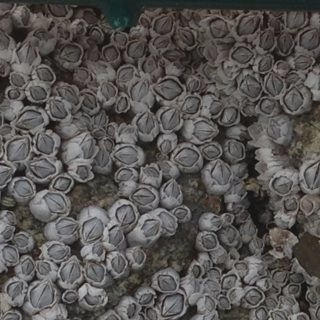Barnacle: (143, 209, 177, 237), (153, 79, 185, 103), (29, 281, 55, 308), (81, 218, 105, 243), (59, 260, 82, 285), (17, 42, 38, 69), (16, 110, 44, 130), (8, 137, 31, 161), (210, 161, 232, 186), (162, 294, 184, 319), (283, 88, 304, 114), (29, 159, 56, 179), (193, 121, 218, 142), (236, 14, 259, 36), (160, 107, 181, 131), (44, 193, 66, 215), (175, 148, 200, 167), (241, 76, 262, 98), (300, 28, 319, 52), (58, 86, 79, 107), (272, 175, 294, 195), (115, 205, 135, 227), (115, 147, 138, 166), (56, 219, 79, 238), (210, 19, 230, 40), (305, 161, 319, 191), (36, 133, 55, 155), (136, 112, 154, 135), (286, 9, 306, 29), (85, 262, 105, 282), (59, 45, 81, 63), (266, 74, 283, 97), (133, 79, 150, 102), (132, 190, 156, 206), (128, 40, 146, 61), (232, 47, 254, 64), (154, 16, 173, 35), (178, 27, 196, 47), (15, 180, 35, 198), (51, 99, 68, 120), (165, 49, 190, 63), (80, 135, 95, 158), (80, 91, 98, 110), (182, 98, 202, 115), (220, 107, 240, 124), (259, 31, 275, 52), (48, 2, 68, 18), (54, 177, 74, 193), (278, 33, 292, 55), (164, 181, 180, 200), (266, 120, 281, 140), (108, 227, 123, 247), (112, 254, 127, 274), (158, 276, 178, 291), (258, 56, 274, 74), (260, 98, 276, 116), (228, 141, 244, 159), (2, 246, 18, 264), (48, 246, 70, 259), (142, 165, 161, 180), (118, 67, 134, 84), (221, 274, 237, 291), (245, 289, 262, 305), (96, 149, 110, 168), (85, 293, 105, 306), (143, 57, 158, 74), (37, 67, 54, 82), (8, 283, 23, 300), (30, 86, 48, 100), (102, 83, 116, 101), (104, 47, 120, 62), (14, 234, 30, 249), (202, 235, 218, 250), (294, 57, 312, 70), (21, 259, 34, 277), (20, 7, 32, 26), (86, 48, 100, 64), (94, 112, 108, 128), (76, 166, 90, 181), (38, 262, 52, 277), (205, 279, 220, 293), (57, 25, 70, 41), (209, 100, 222, 116), (153, 37, 170, 49), (117, 97, 129, 114), (243, 220, 255, 237), (272, 271, 289, 283), (204, 147, 222, 158), (235, 165, 249, 179), (83, 12, 98, 25), (11, 74, 26, 87), (257, 157, 269, 173), (222, 62, 233, 79), (160, 140, 173, 154), (158, 161, 173, 173), (301, 199, 313, 214), (280, 296, 295, 308), (35, 29, 51, 40), (205, 296, 216, 312), (242, 105, 257, 116), (134, 249, 144, 265), (277, 61, 290, 73), (203, 66, 215, 79), (234, 184, 246, 197), (175, 209, 188, 221), (139, 295, 154, 305), (77, 69, 89, 81), (78, 116, 90, 128), (2, 228, 14, 240), (147, 307, 159, 319), (271, 20, 282, 33), (91, 28, 101, 42), (270, 312, 290, 319), (102, 19, 113, 31), (188, 79, 200, 90), (287, 74, 300, 84), (0, 127, 13, 137), (64, 292, 77, 302), (291, 273, 305, 282), (104, 139, 114, 151), (220, 297, 230, 309), (128, 303, 136, 318), (8, 91, 21, 100), (227, 228, 235, 242), (265, 300, 279, 308), (94, 130, 105, 140), (93, 245, 103, 256), (208, 49, 217, 61), (7, 212, 16, 224), (257, 309, 267, 319), (210, 270, 221, 279), (289, 286, 300, 295), (308, 293, 317, 304), (235, 263, 247, 271), (193, 266, 201, 278), (75, 25, 84, 35), (184, 66, 193, 76), (212, 217, 222, 226), (107, 126, 115, 137), (3, 314, 20, 319), (254, 240, 263, 249), (203, 261, 211, 270), (253, 128, 260, 138), (0, 63, 5, 75)
